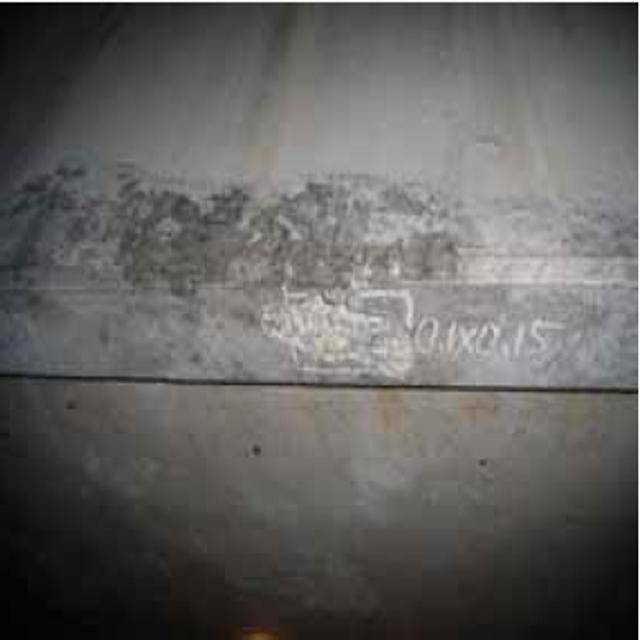spalling: (253, 241, 424, 376)
